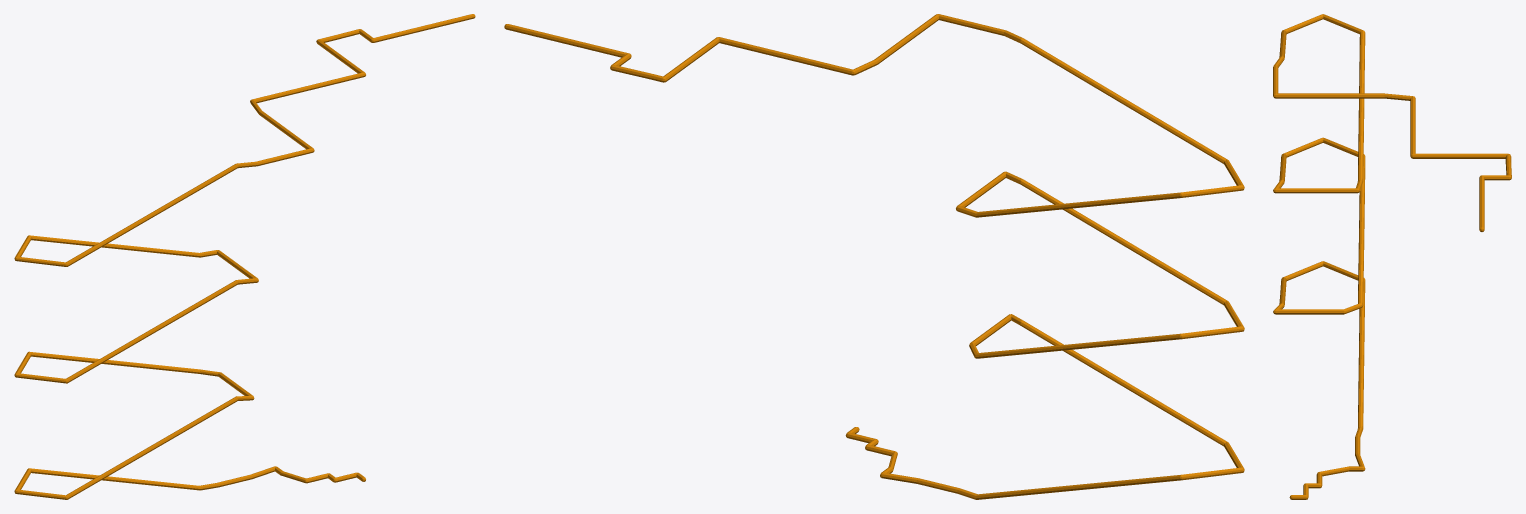
The picture shows the model from 3 angles, left to right: view 1: azimuth 30°, elevation 25°; view 2: azimuth 150°, elevation 25°; view 3: azimuth 270°, elevation 25°; orthographic projection. The views are drawn at different scales.
Size of the model in its own units: 2406 by 1520 by 877.
